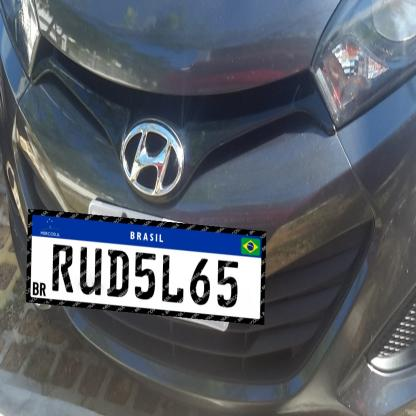PlacaM: (26, 209, 266, 325)
